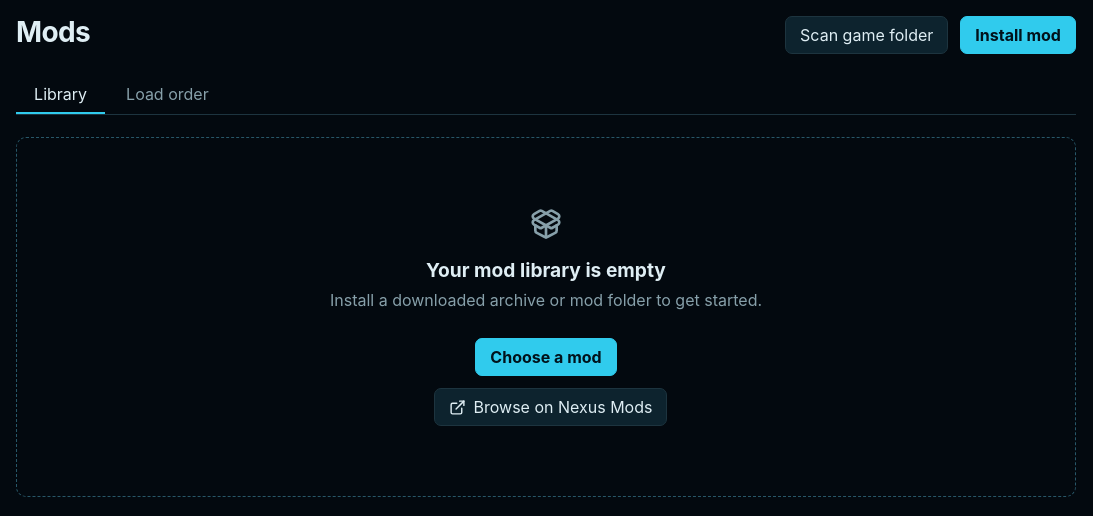
Test case: UE4SS start order › shows the UE4SS list even when no packaged mod is orderable
This screenshot has width=1093, height=516.
Step 1. Click the tab "Load order" → click(167, 95), box [108,76,227,114]
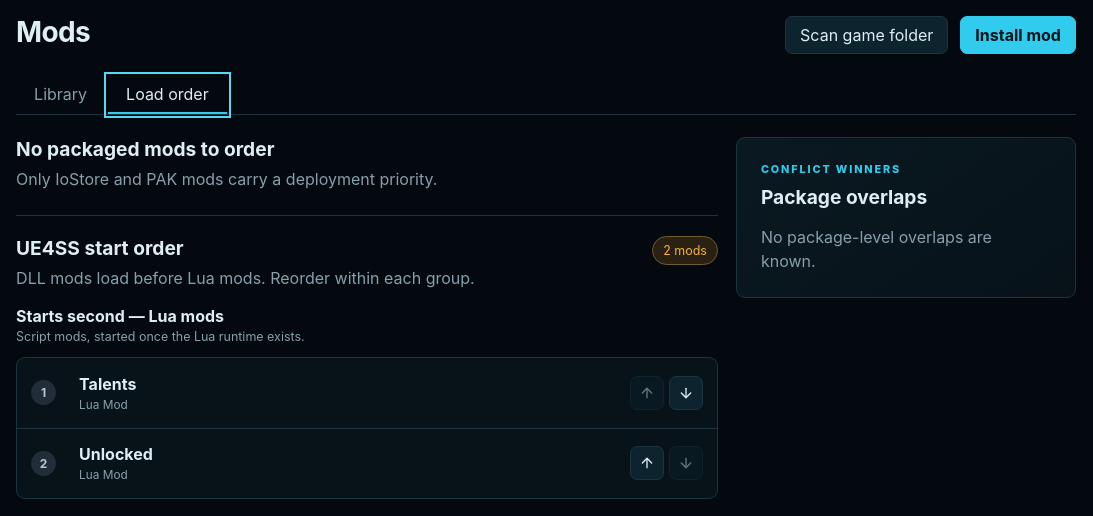
Now the heading "UE4SS start order" is shown, box [16,236,184,260]
Now the heading "No packaged mods to order" is shown, box [16,137,274,161]
